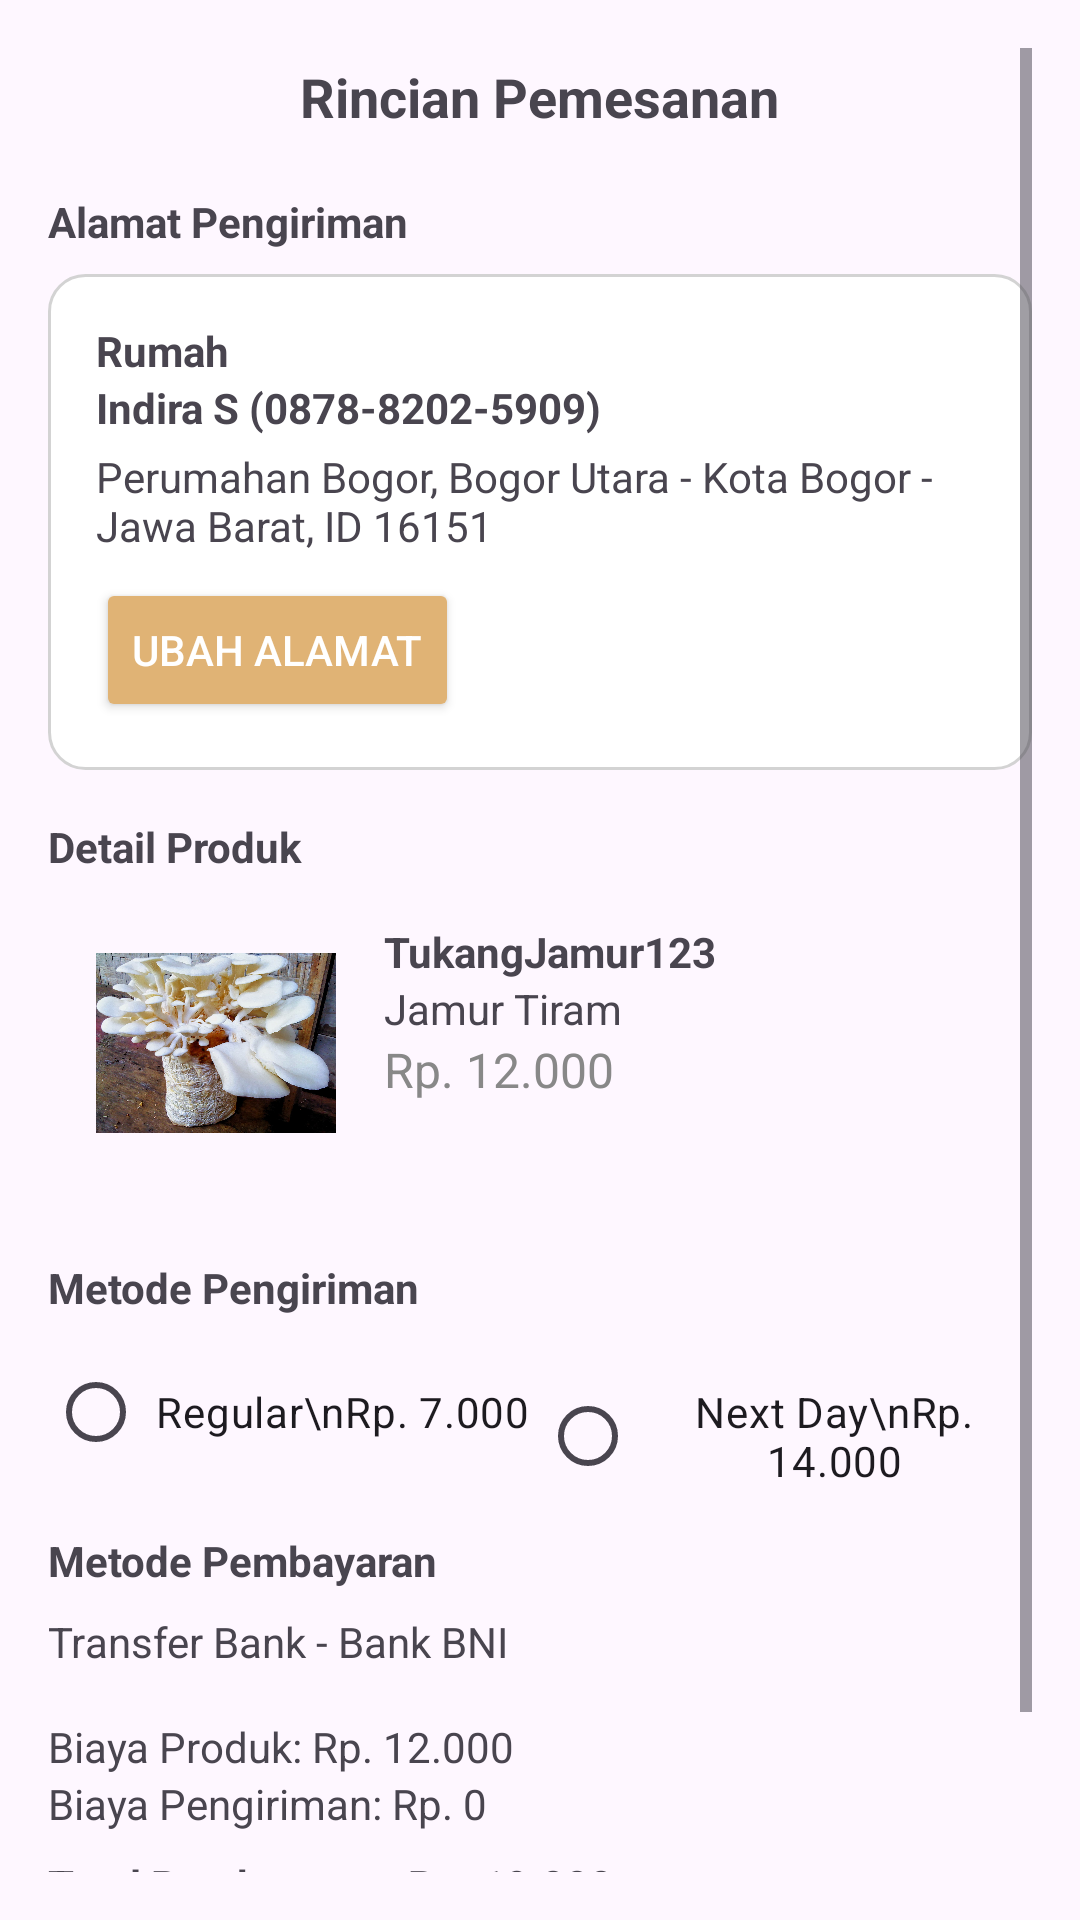

Icons on this 1080 x 1920 Android screen, each with the point to tap as [x,y]:
Product Image: [216,1043]
